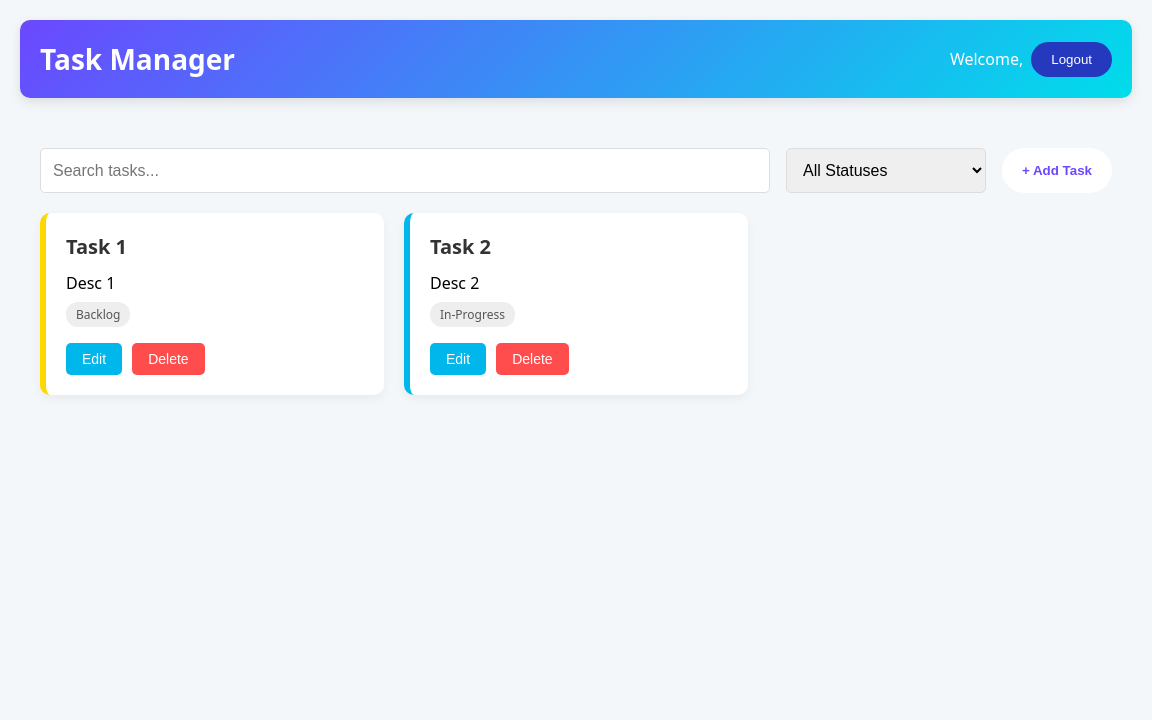
Test case: App Component › adds a new task
Expected: the heading "Task 1" is shown, [66, 233, 127, 260]
Click the button "+ Add Task" at x=1057, y=170, box [1002, 148, 1112, 193]
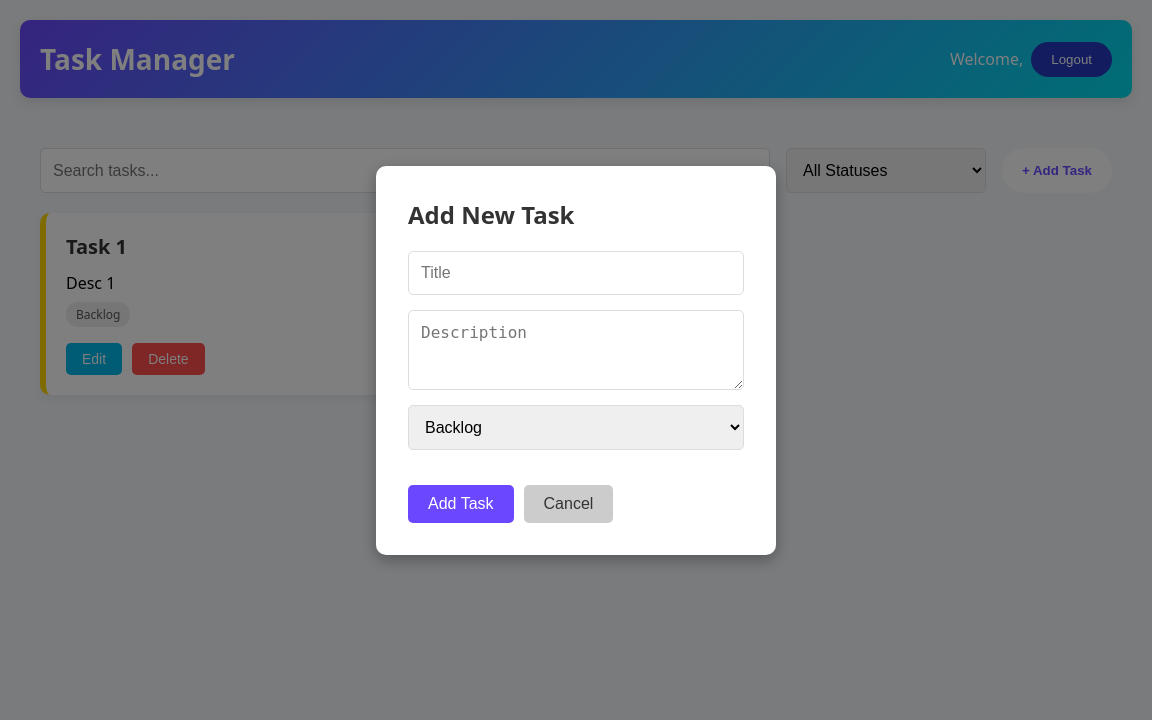
Type "Task 3" into the field with placeholder "Title" at x=576, y=272, box [408, 250, 744, 294]
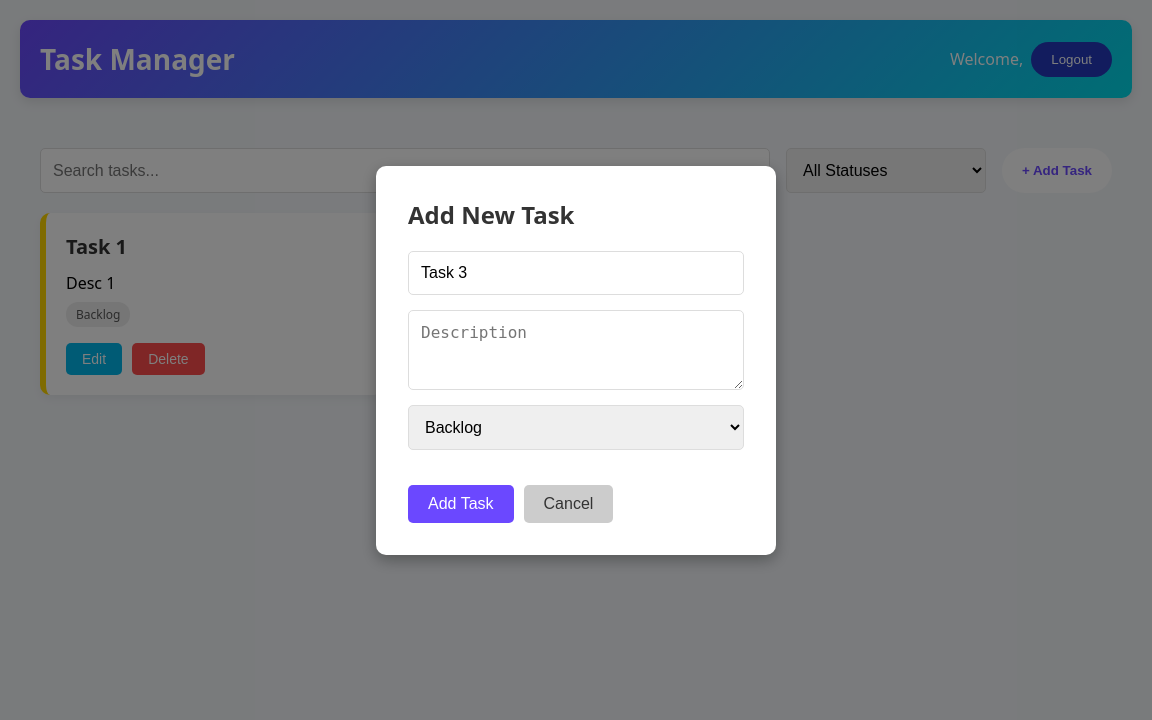
Type "Desc 3" into the text box with placeholder "Description" at x=576, y=350, box [408, 310, 744, 390]
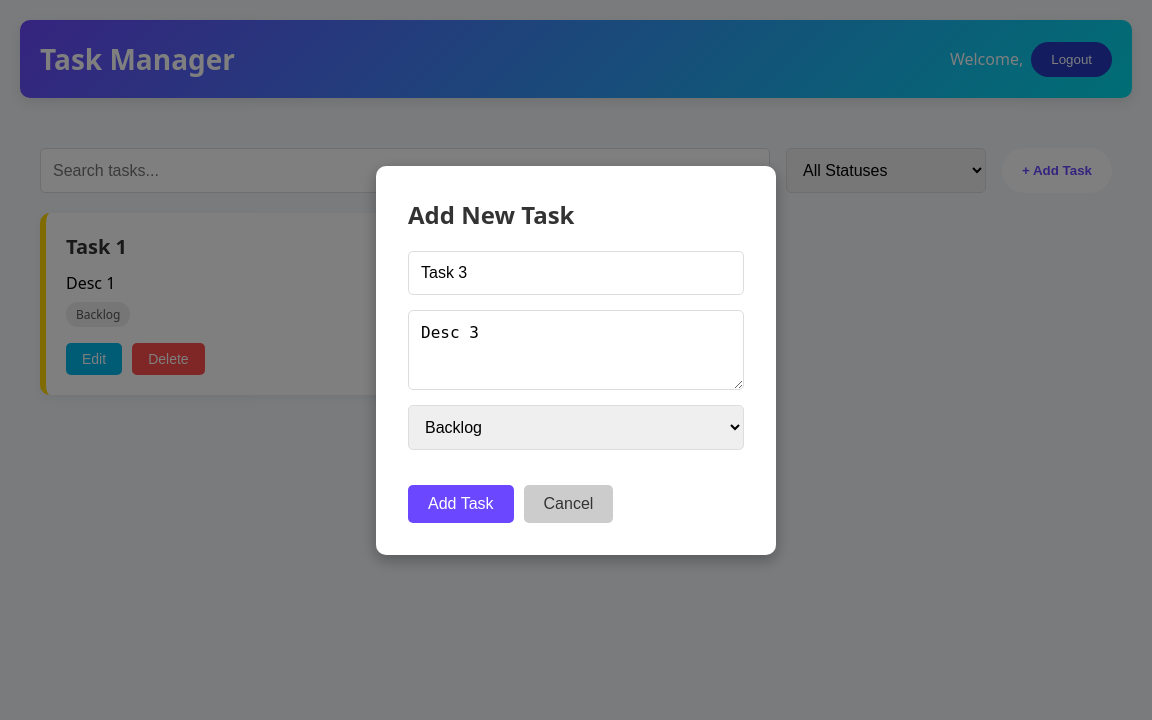
Click the button "Add Task" at x=461, y=504, box [408, 484, 514, 522]
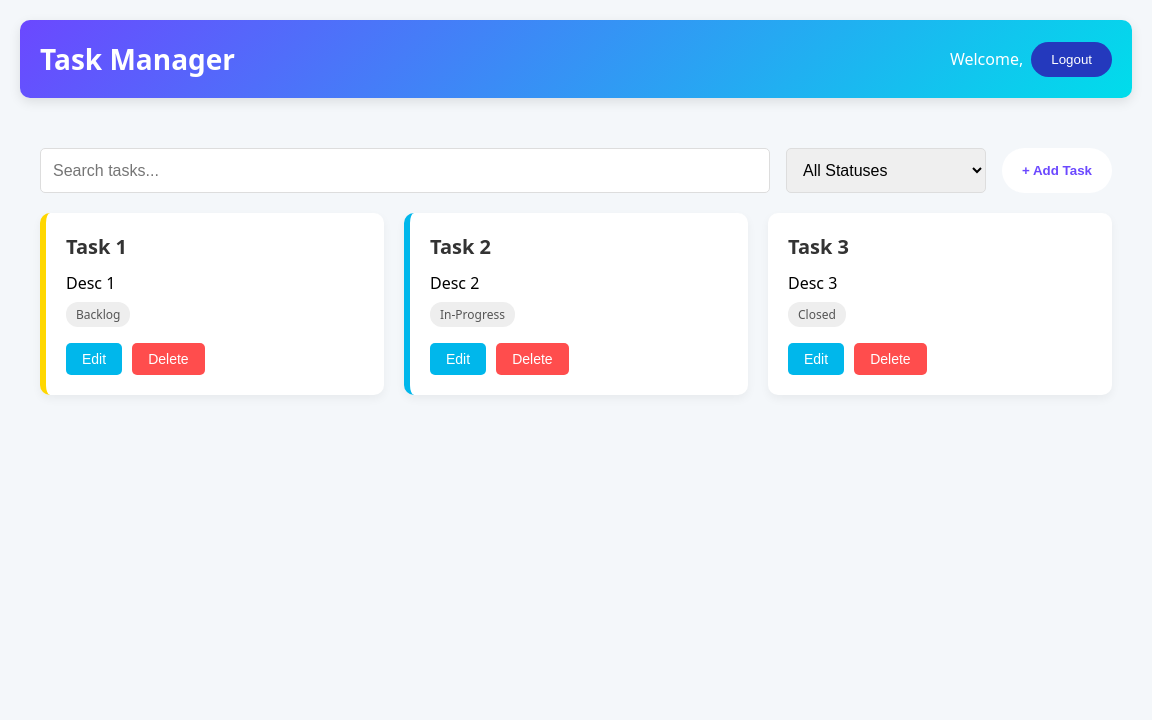
Now the heading "Task 3" is shown, box [788, 233, 849, 260]
